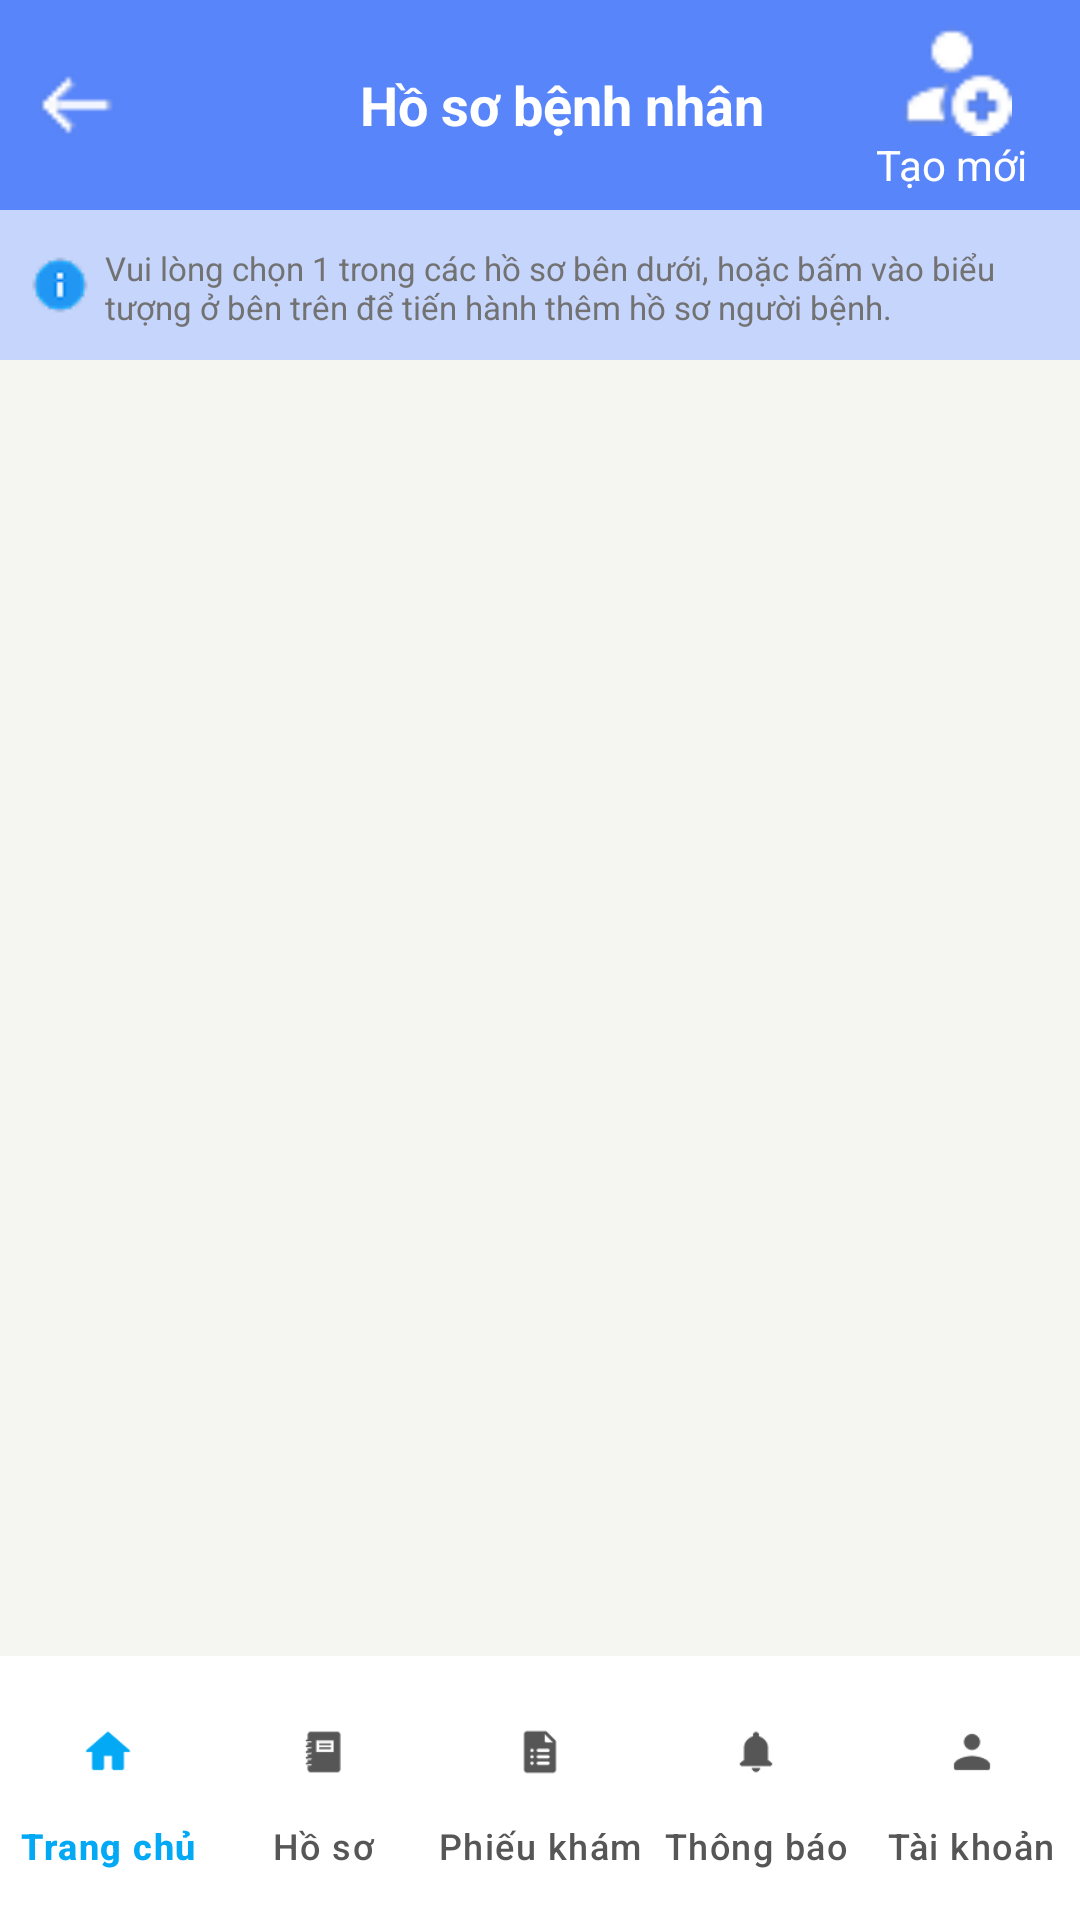

Named icons in this screenshot (1080 × 1920) and their centers, (x=x, y=y):
add user: (x=959, y=83)
info: (x=60, y=285)
left: (x=76, y=105)
